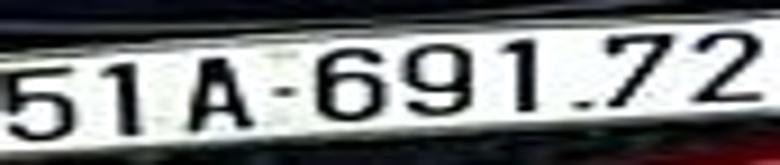-: (274, 87, 296, 97)
.: (575, 101, 590, 111)
1: (105, 63, 140, 137), (508, 39, 538, 114)
2: (694, 30, 761, 101)
5: (2, 69, 77, 140)
6: (317, 47, 384, 121)
7: (607, 32, 670, 109)
9: (407, 42, 474, 117)
A: (189, 56, 255, 130)
